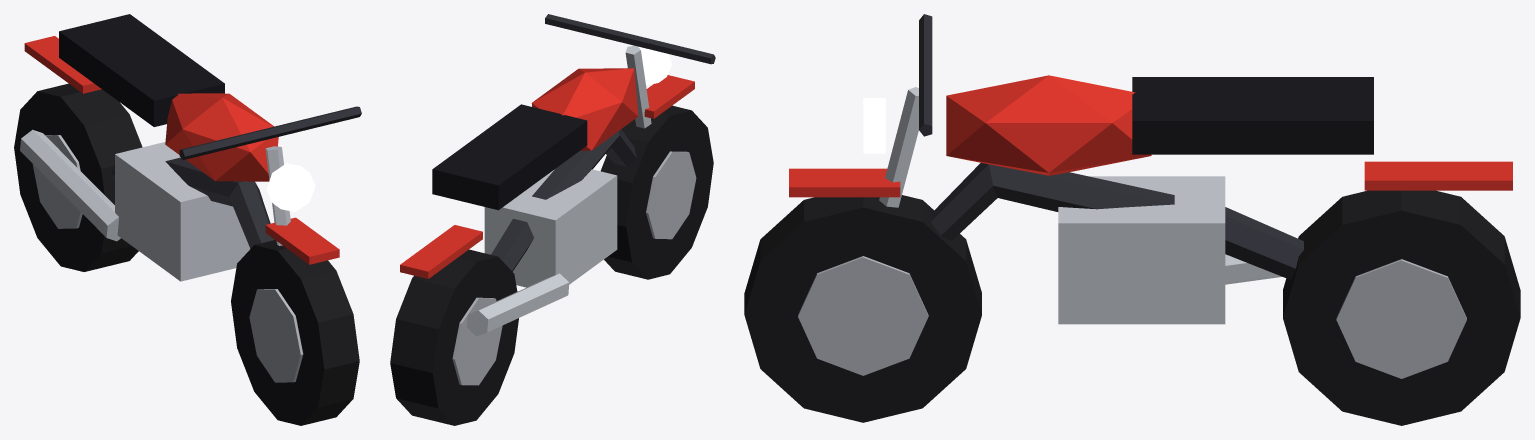
File: motorbike.glb
The picture shows the model from 3 angles, left to right: view 1: azimuth 30°, elevation 25°; view 2: azimuth 150°, elevation 25°; view 3: azimuth 270°, elevation 25°; orthographic projection. The views are drawn at different scales.
Parts seen in each view (by area): view 1: motorbike; view 2: motorbike; view 3: motorbike.
Part boxes in pixels (x1,y1,x2,y2): motorbike: [14, 14, 361, 425]; motorbike: [390, 14, 715, 425]; motorbike: [744, 14, 1520, 425].
Size of the model in its own units: 0.7 by 1.02 by 2.09.
